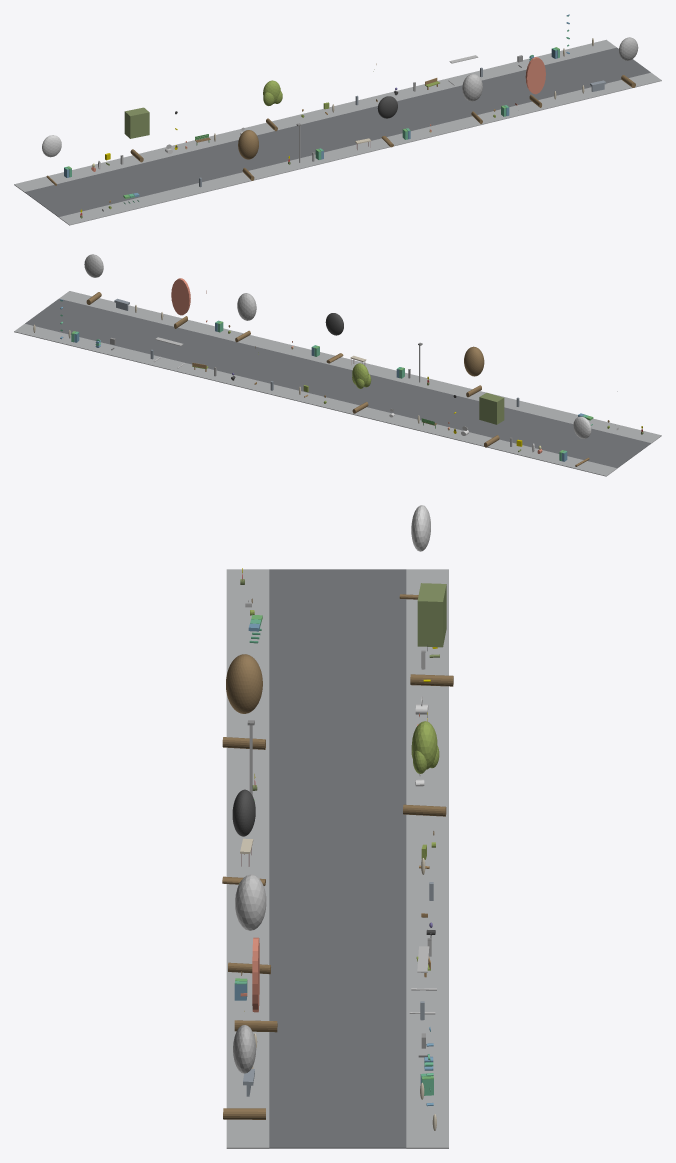
The picture shows the model from 3 angles, top to bottom: view 1: azimuth 30°, elevation 25°; view 2: azimuth 150°, elevation 25°; view 3: azimuth 270°, elevation 25°; orthographic projection. The views are drawn at different scales.
Parts seen in each view (by area): view 1: road_slab, sidewalk_left, sidewalk_right, inst_0019, inst_0024, inst_0020, inst_0023, inst_0021, inst_0025, inst_0022, inst_0018; view 2: road_slab, sidewalk_right, sidewalk_left, inst_0019, inst_0024, inst_0020, inst_0023, inst_0021, inst_0025, inst_0022, inst_0018; view 3: road_slab, sidewalk_right, sidewalk_left, inst_0019, inst_0020, inst_0023, inst_0021, inst_0025, inst_0022, inst_0024.
Part boxes in pixels (box(x1,y1,x2,y2)): road_slab: box(24, 47, 650, 217); sidewalk_left: box(59, 72, 661, 225); sidewalk_right: box(14, 39, 616, 192); inst_0019: box(124, 107, 149, 162); inst_0024: box(525, 57, 545, 107); inst_0020: box(238, 130, 258, 180); inst_0023: box(462, 74, 482, 123); inst_0021: box(263, 80, 282, 131); inst_0025: box(619, 37, 638, 87); inst_0022: box(377, 96, 397, 147); inst_0018: box(42, 135, 61, 185); road_slab: box(25, 298, 650, 468); sidewalk_right: box(14, 324, 616, 476); sidewalk_left: box(59, 291, 661, 443); inst_0019: box(479, 392, 504, 447); inst_0024: box(171, 278, 190, 328); inst_0020: box(464, 346, 484, 397); inst_0023: box(235, 293, 256, 342); inst_0021: box(352, 363, 371, 413); inst_0025: box(84, 254, 103, 304); inst_0022: box(325, 313, 343, 363); inst_0018: box(573, 416, 591, 466); road_slab: box(269, 569, 406, 1148); sidewalk_right: box(406, 569, 448, 1148); sidewalk_left: box(226, 569, 269, 1148); inst_0019: box(410, 583, 453, 686); inst_0020: box(222, 654, 265, 749); inst_0023: box(228, 874, 270, 974); inst_0021: box(403, 721, 446, 816); inst_0025: box(223, 1025, 265, 1119); inst_0022: box(222, 789, 265, 885); inst_0024: box(234, 937, 277, 1032).
Size of the model in its own units: 80 by 6.08 by 13.53.
